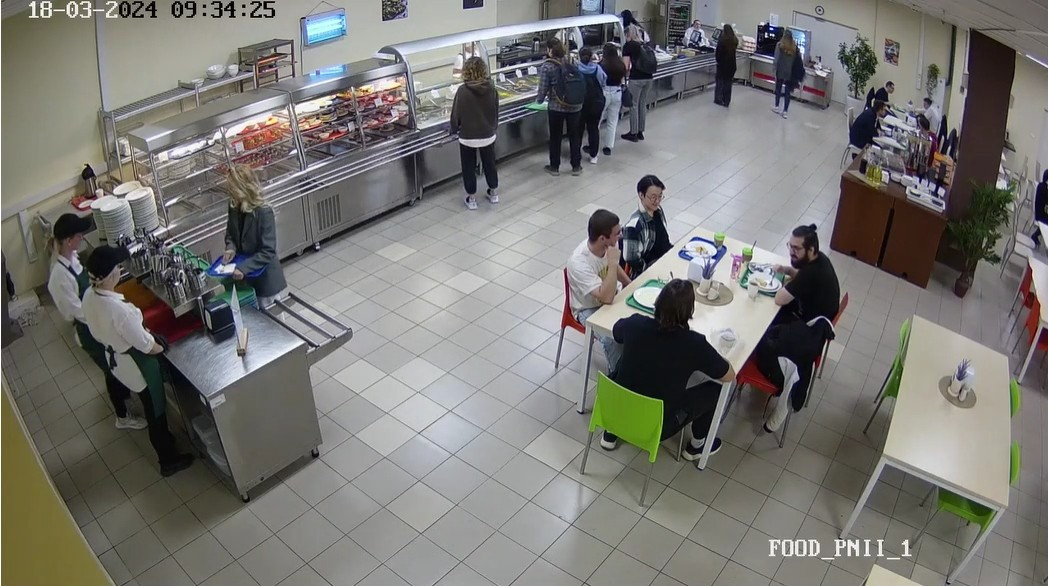Na_Kasse: (764, 27, 807, 116), (703, 23, 741, 104)
Ne_v_Ocheredi: (1024, 165, 1048, 252)
Personal: (65, 241, 190, 485), (36, 200, 147, 434), (678, 18, 707, 51), (454, 36, 479, 70), (621, 5, 636, 25)
Vybiraet: (194, 152, 297, 309), (437, 49, 500, 210), (535, 37, 584, 172), (570, 44, 604, 168), (598, 45, 629, 153), (621, 21, 650, 134)
Za_Stolom: (572, 286, 723, 474), (565, 209, 632, 352), (763, 217, 840, 315), (633, 170, 672, 255), (844, 90, 882, 155), (909, 111, 947, 153), (919, 82, 938, 117), (872, 86, 905, 105)
